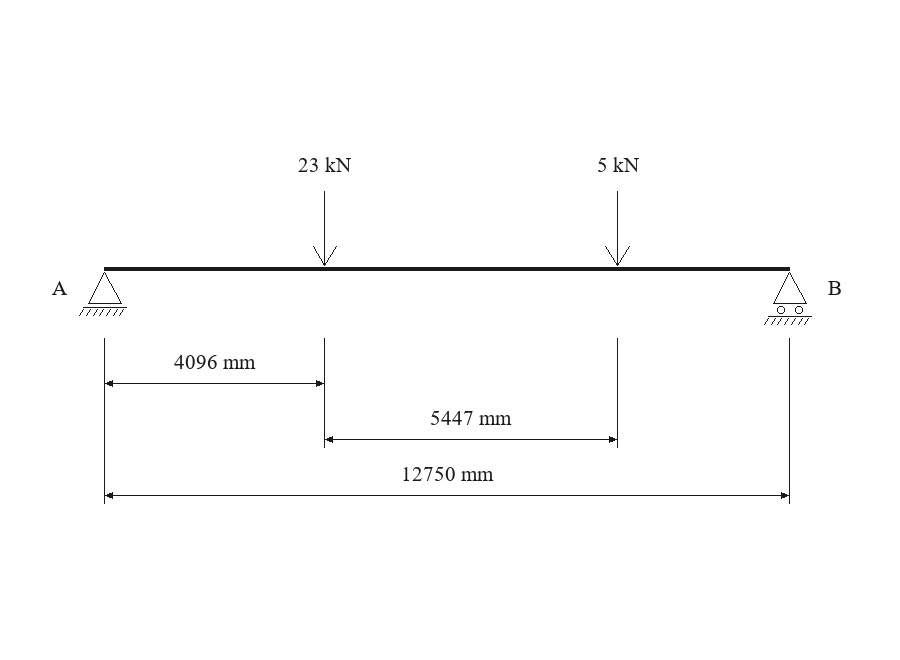pin_support: (79, 272, 127, 316)
point_load: (605, 191, 630, 266), (313, 191, 337, 266)
roller_support: (764, 272, 812, 325)
